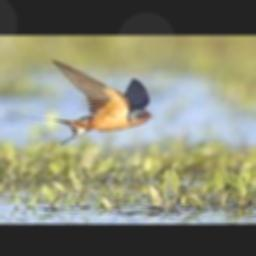Swallow: (21, 60, 153, 145)
